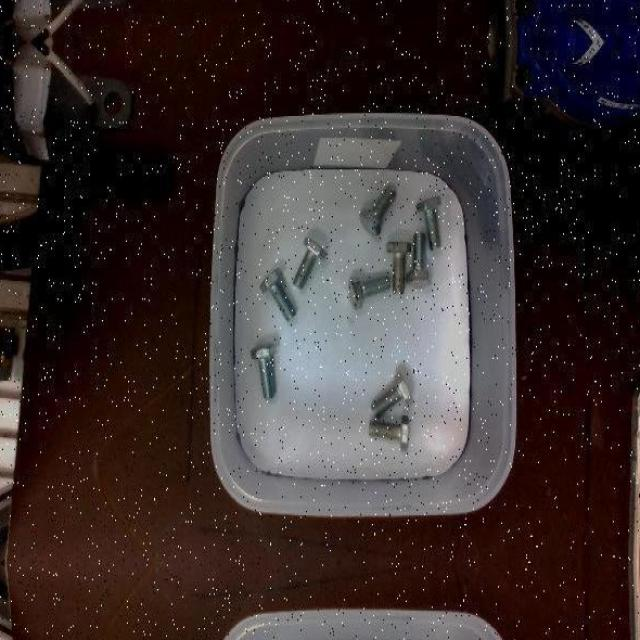screw: (259, 266, 296, 322), (370, 372, 413, 420), (359, 184, 396, 235), (292, 236, 326, 288), (368, 414, 409, 451), (347, 276, 391, 310), (406, 231, 432, 288), (250, 342, 276, 398), (414, 195, 440, 250), (385, 241, 411, 294)
